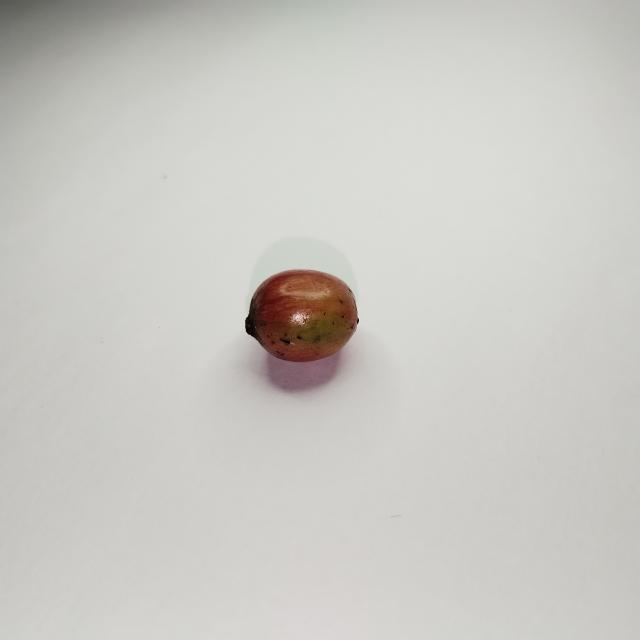Sano: (245, 269, 358, 362)
